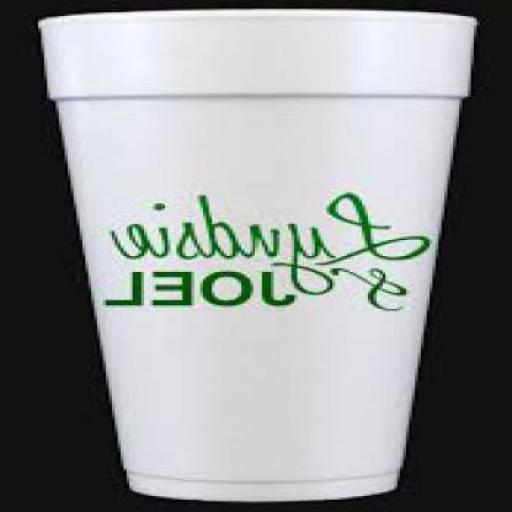paper: (42, 6, 482, 502)
